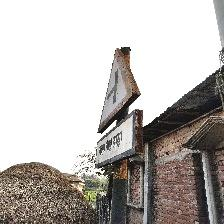Side-road-left: (95, 47, 143, 165)
